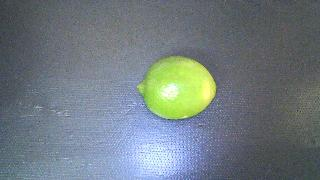EXPORTACION: (137, 56, 216, 119)
